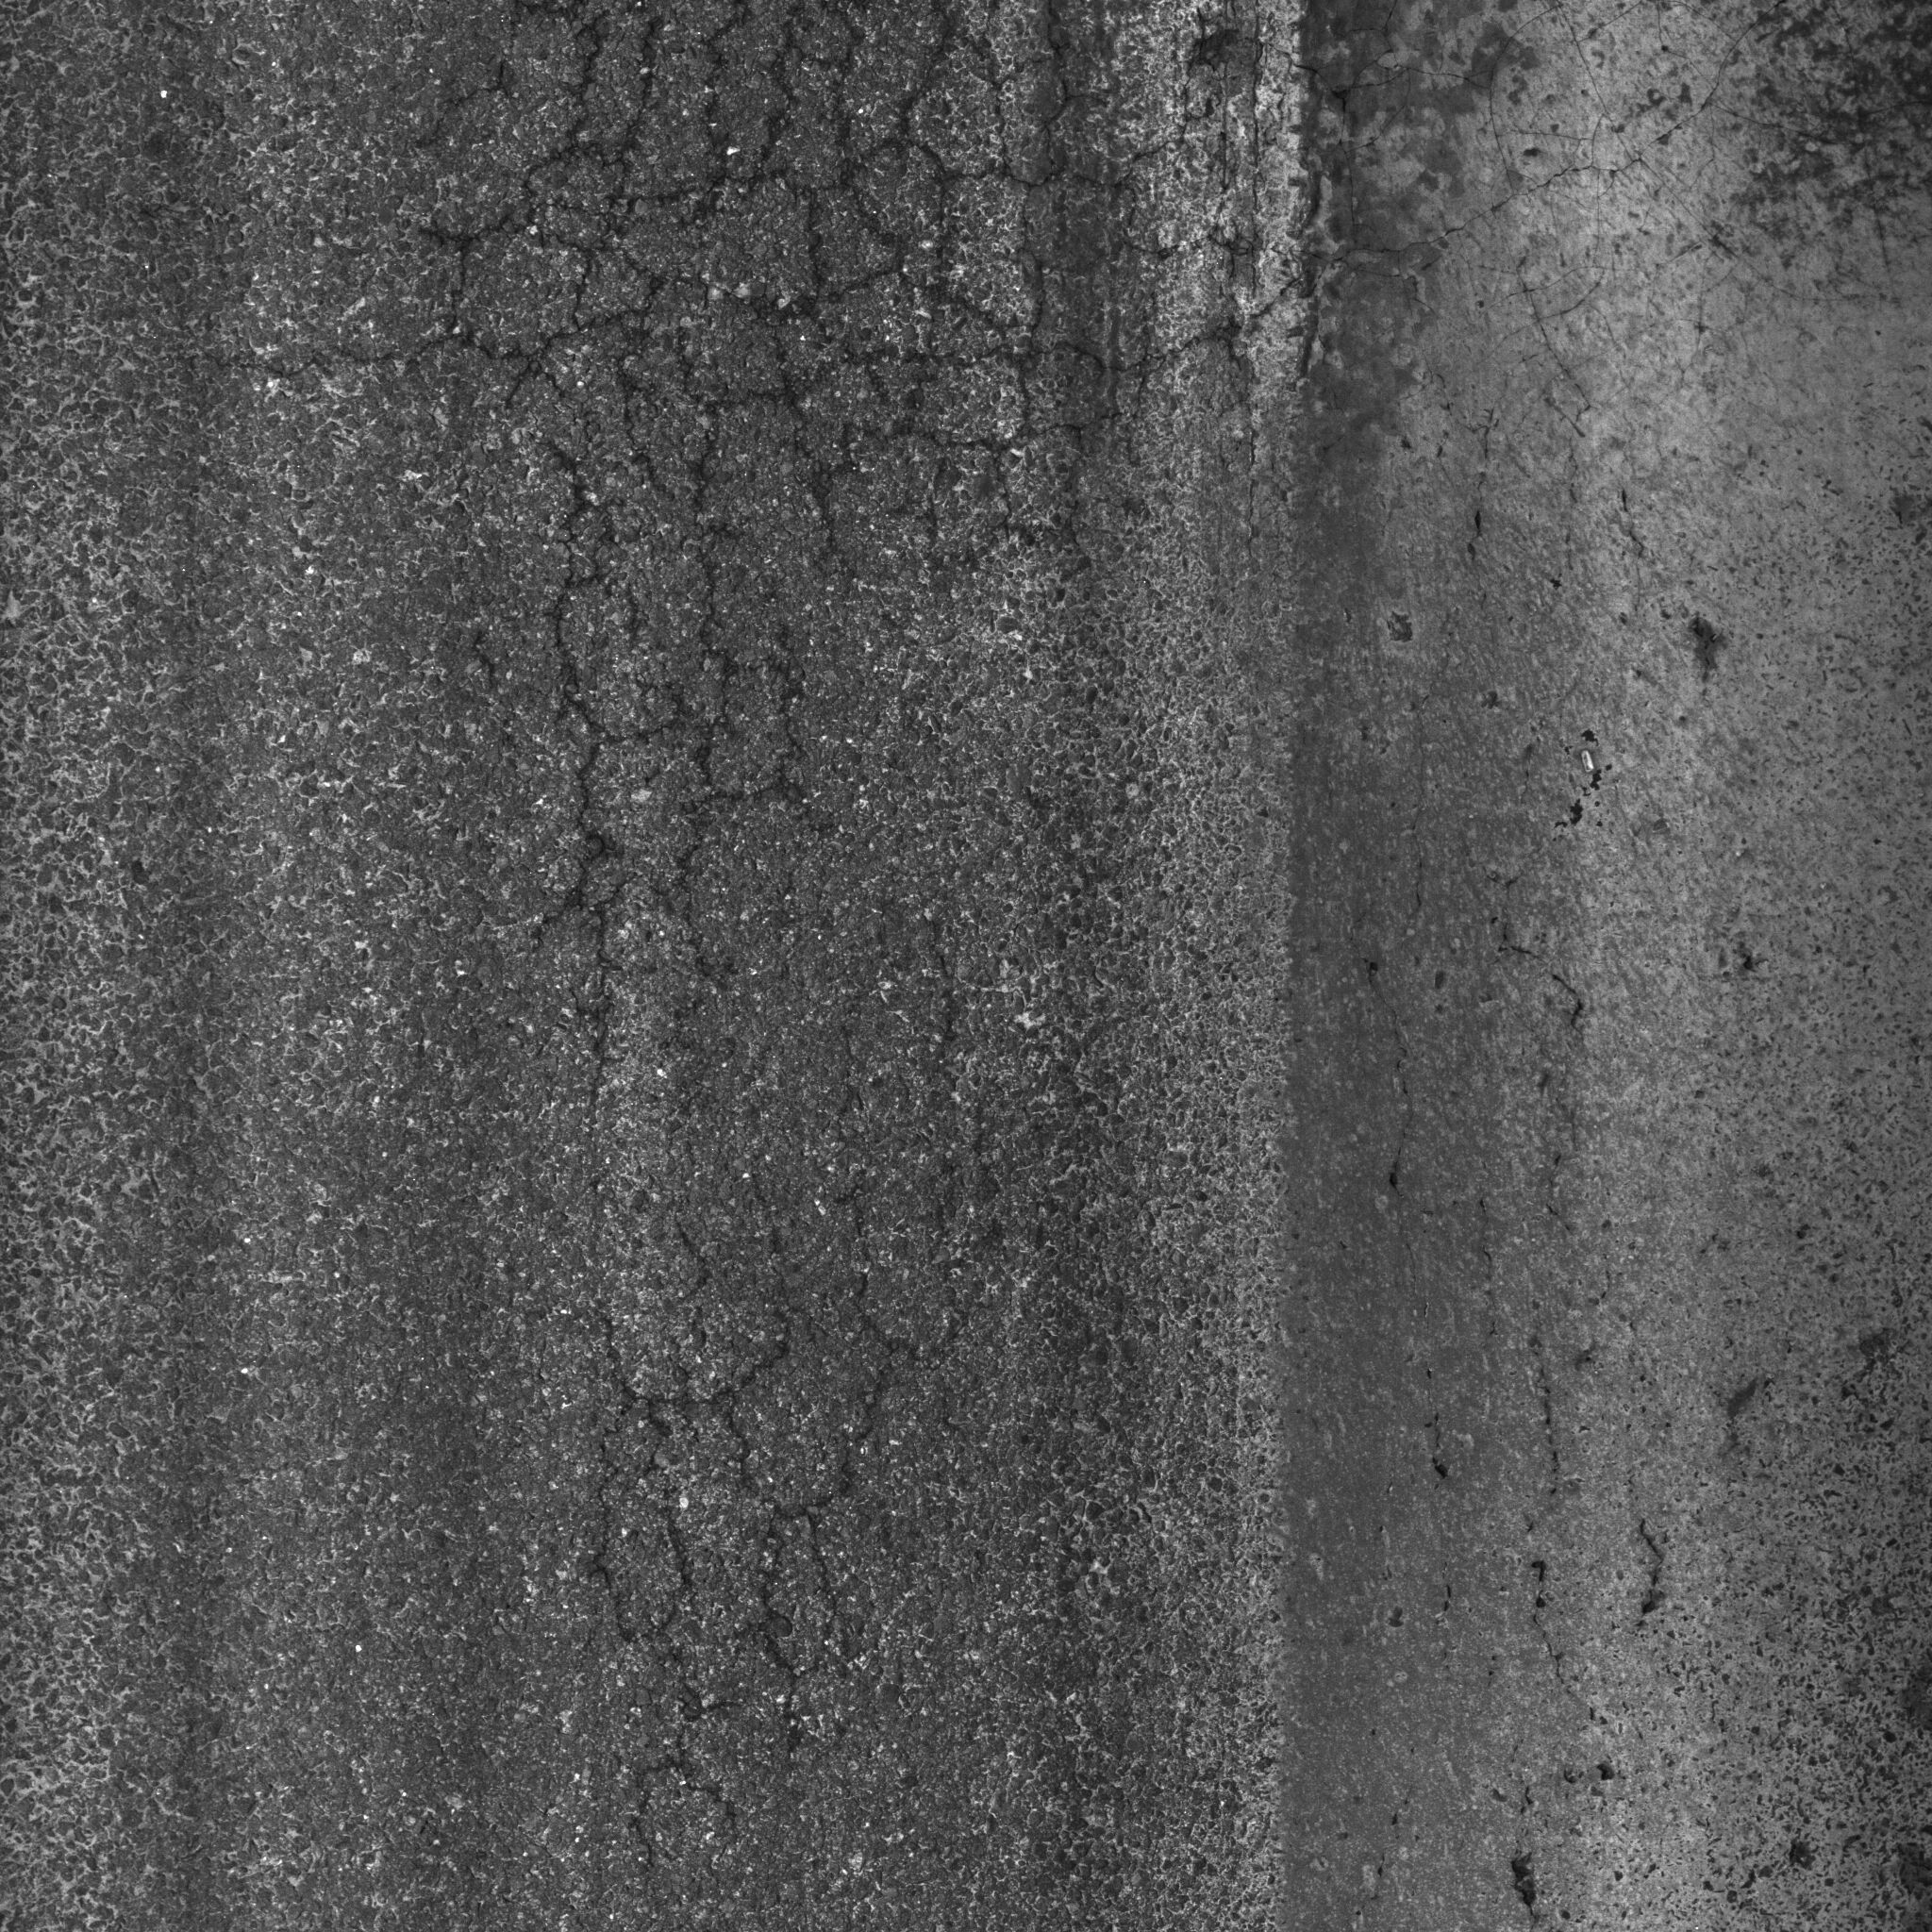alligator: (326, 2, 1389, 1932)
